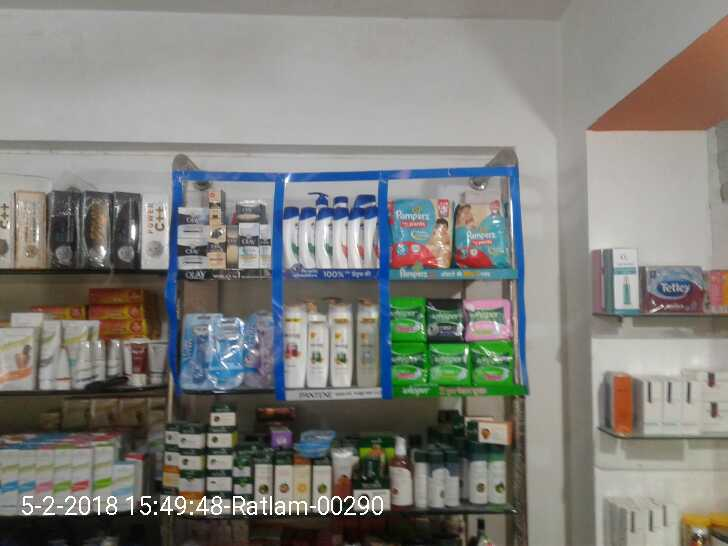venus: (211, 313, 244, 389), (244, 310, 274, 389), (181, 313, 211, 391)
